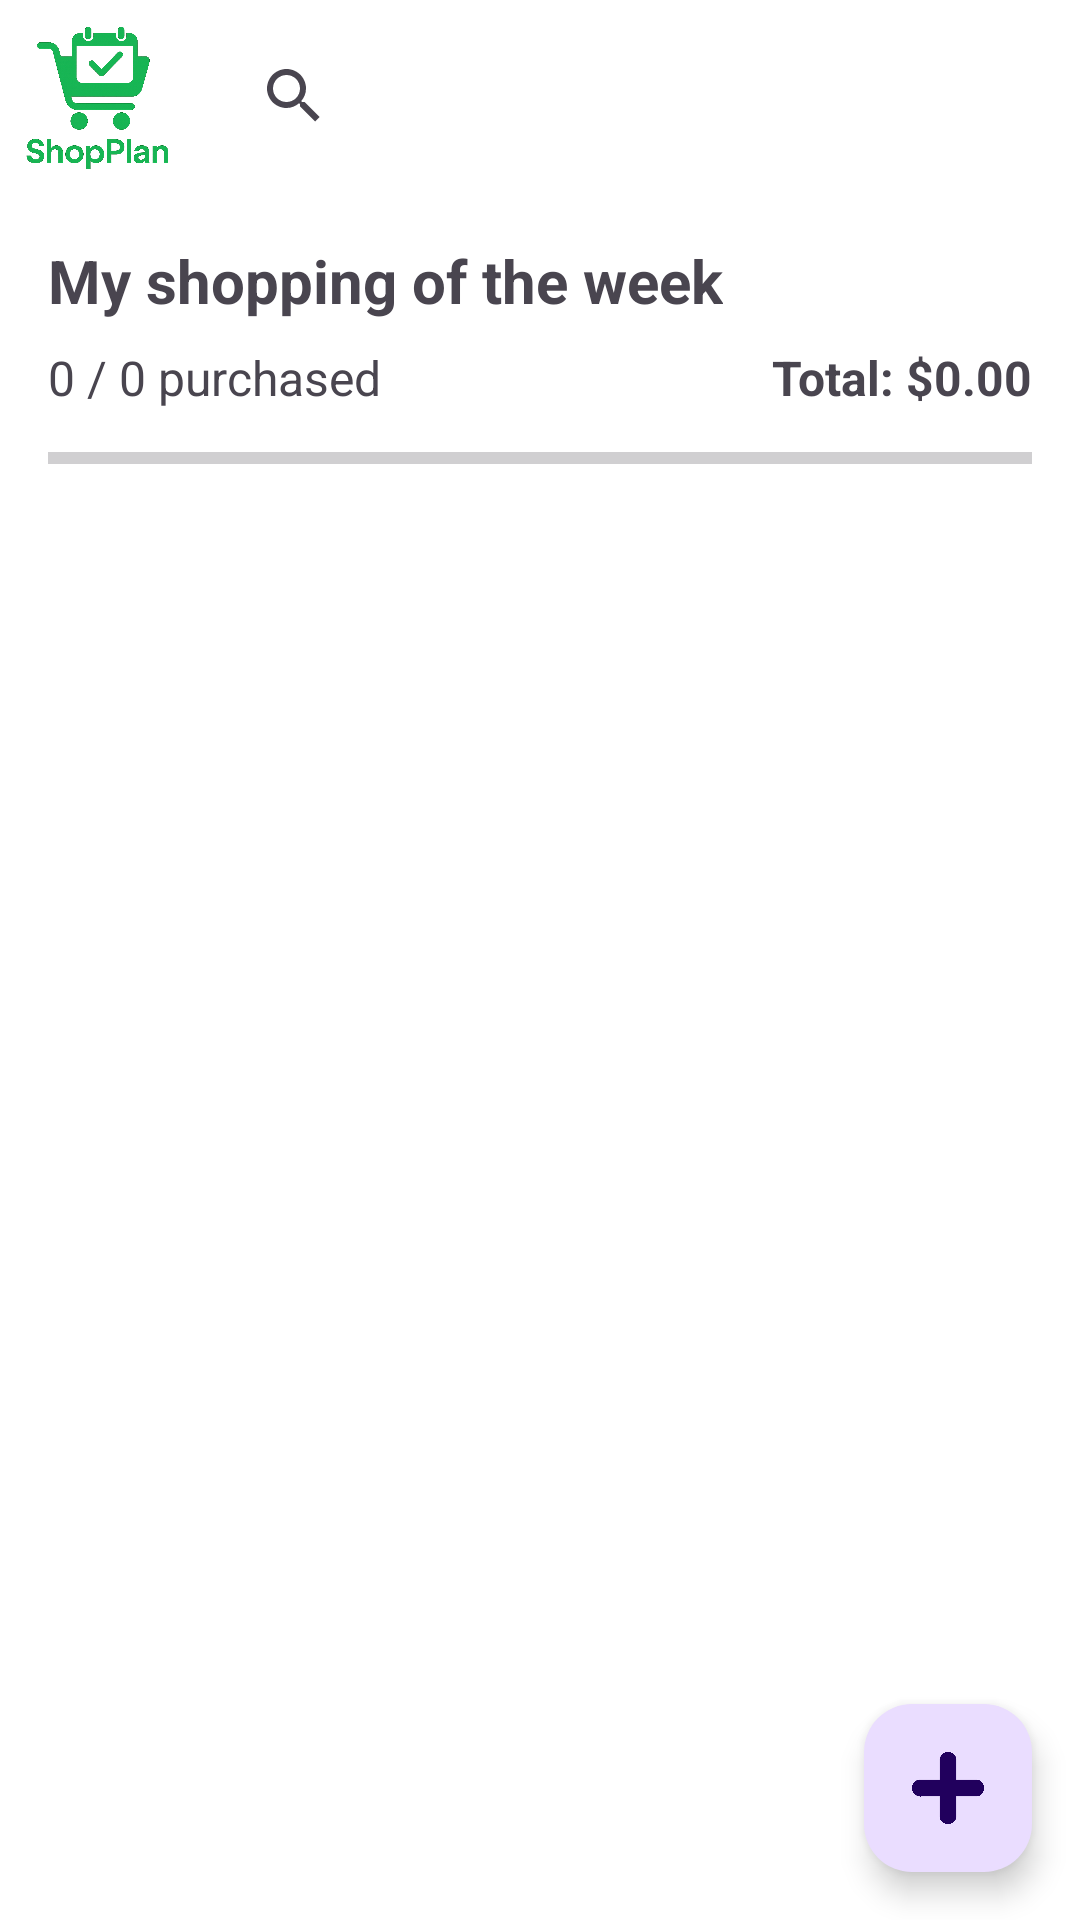

Named icons in this screenshot (1080x1920) and their centers, (x,y):
Add Product: (948,1788)
